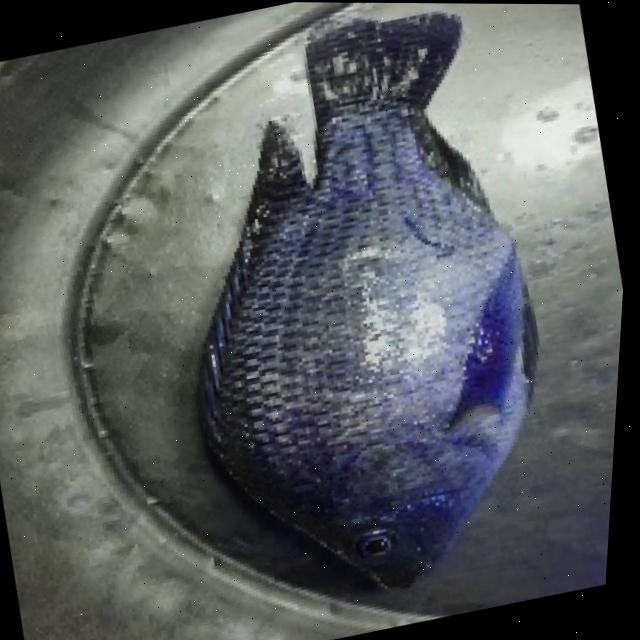Fresh: (145, 1, 615, 635)
